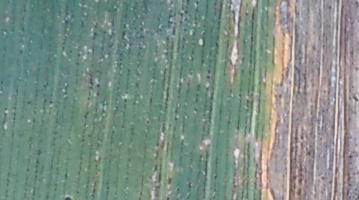tarspot: (166, 8, 178, 27), (230, 8, 237, 25), (87, 72, 94, 86), (120, 31, 128, 43), (351, 94, 359, 103), (296, 187, 303, 197), (171, 25, 177, 36), (63, 18, 71, 26), (304, 150, 312, 158), (166, 176, 173, 185), (122, 96, 129, 105), (91, 30, 97, 40), (47, 99, 55, 106), (2, 110, 9, 118), (17, 48, 25, 55), (94, 89, 101, 97), (144, 118, 151, 126), (62, 195, 73, 200), (297, 177, 303, 186), (83, 110, 89, 119), (148, 96, 154, 105), (183, 14, 189, 23), (277, 92, 283, 101), (75, 51, 82, 58), (205, 74, 212, 81), (318, 174, 325, 181), (25, 99, 33, 105), (121, 22, 127, 30), (353, 65, 359, 73), (110, 128, 116, 136), (347, 153, 353, 160), (74, 61, 81, 67), (184, 1, 191, 7), (183, 9, 190, 15), (299, 134, 305, 141), (244, 10, 249, 18), (354, 1, 359, 9), (182, 26, 188, 32), (95, 82, 100, 89), (327, 4, 332, 11), (178, 19, 183, 26), (164, 195, 170, 200), (2, 106, 9, 110), (179, 11, 184, 16), (293, 1, 299, 5)
